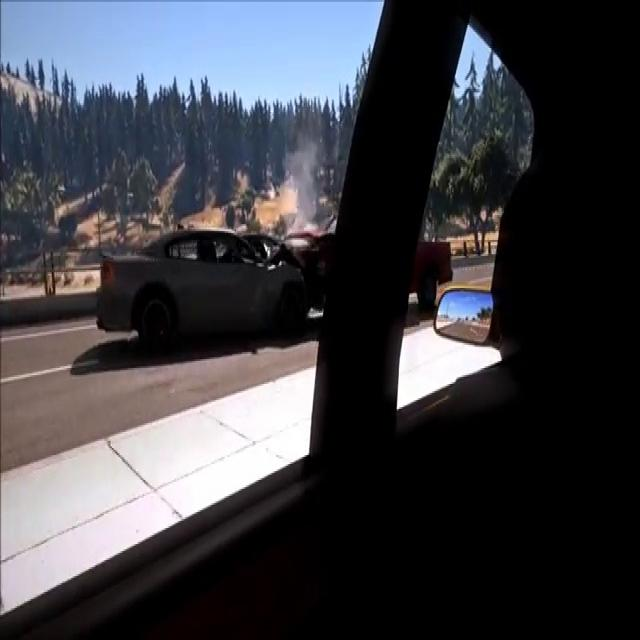moderate: (89, 204, 460, 353)
